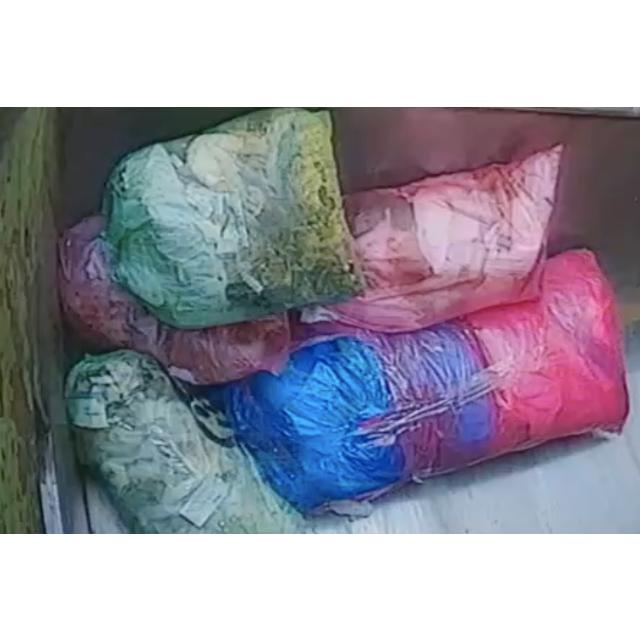general_trashbag: (104, 107, 361, 328), (66, 350, 302, 533)
other_trashbag: (225, 251, 628, 512), (329, 144, 562, 331), (60, 216, 291, 385)
